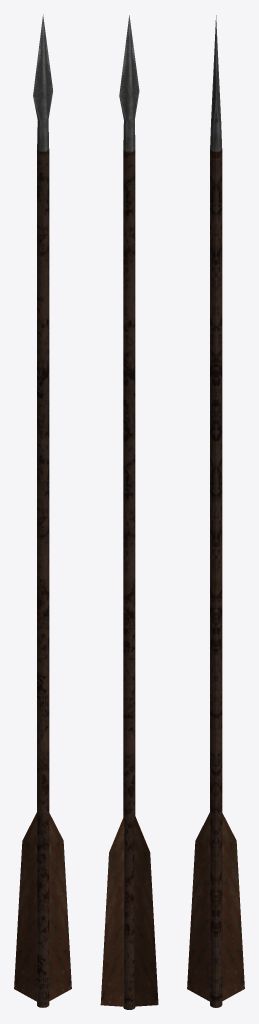
File: sm_uruk_arrow_a.fbx
3 views of the same model, side by side, from view 1: azimuth 30°, elevation 25°; view 2: azimuth 210°, elevation 25°; view 3: azimuth 270°, elevation 25° (orthographic).
Visible parts, largest first — view 1: sm_uruk_arrow_a; view 2: sm_uruk_arrow_a; view 3: sm_uruk_arrow_a.
Part boxes in pixels (bbox=[...]): sm_uruk_arrow_a: bbox=[14, 14, 71, 1007]; sm_uruk_arrow_a: bbox=[100, 15, 158, 1009]; sm_uruk_arrow_a: bbox=[187, 15, 244, 1007].
Size of the model in its own units: 0.0446 by 0.0513 by 0.9699.
1 material, 1 textured.
